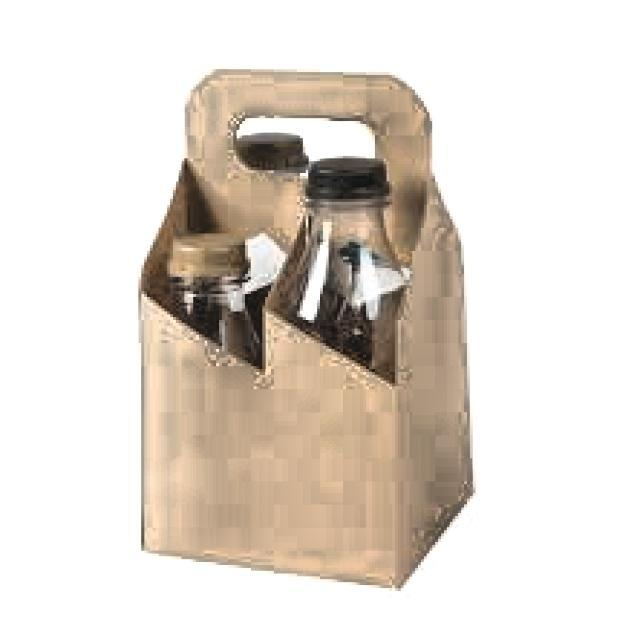cardboard: (136, 64, 476, 588)
